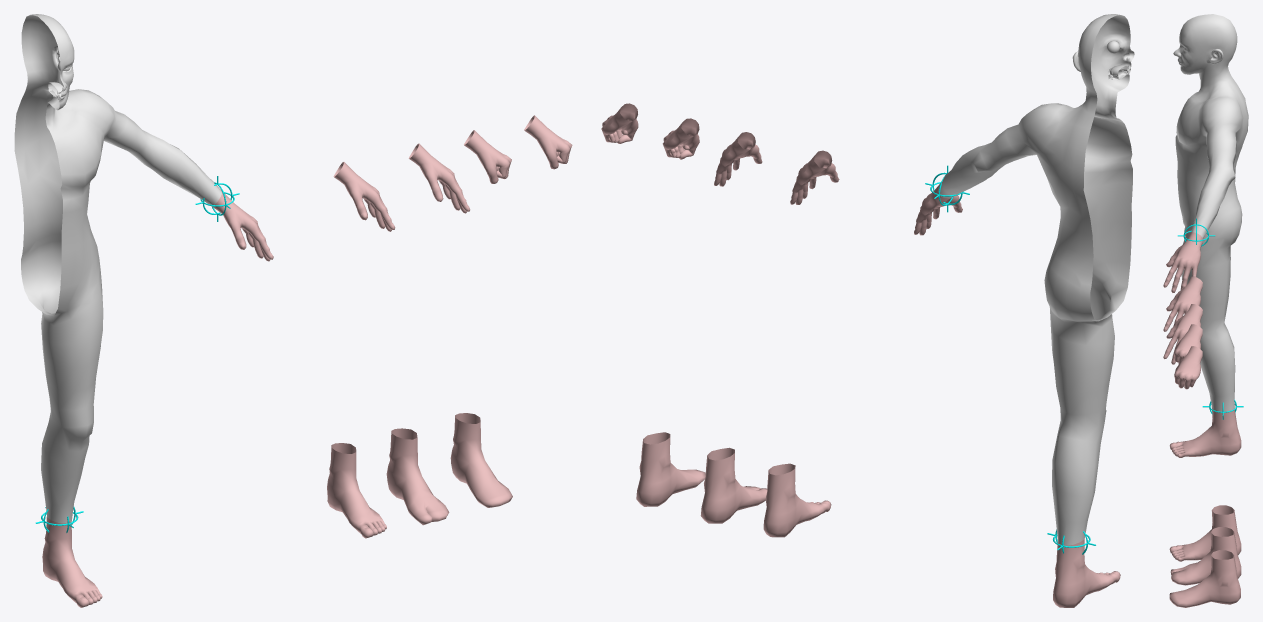
Rendered from Base_Male_A_GameReadyVer.fbx.
The picture shows the model from 3 angles, left to right: view 1: azimuth 30°, elevation 25°; view 2: azimuth 150°, elevation 25°; view 3: azimuth 270°, elevation 25°; orthographic projection. The views are drawn at different scales.
Parts seen in each view (by area): view 1: Base_Male_A, Base_Male_A_Foot03, Base_Male_A_Foot02, Base_Male_A_Foot01, Base_Male_A_Hand02, Base_Male_A_Hand01, Base_Male_A_Fist01, Base_Male_A_Fist02; view 2: Base_Male_A, Base_Male_A_Foot03, Base_Male_A_Foot02, Base_Male_A_Foot01, Base_Male_A_Hand01, Base_Male_A_Hand02, Base_Male_A_Fist01, Base_Male_A_Fist02; view 3: Base_Male_A, Base_Male_A_Foot02, Base_Male_A_Foot03, Base_Male_A_Foot01, Base_Male_A_Hand01, Base_Male_A_Fist02, Base_Male_A_Hand02, Base_Male_A_Fist01, _Pt_Hand, _Pt_Foot.
Part boxes in pixels (x1,y1,x2,y2): Base_Male_A: (14,14,273,607); Base_Male_A_Foot03: (386,428,449,525); Base_Male_A_Foot02: (450,413,512,507); Base_Male_A_Foot01: (327,443,386,538); Base_Male_A_Hand02: (408,143,470,213); Base_Male_A_Hand01: (333,162,395,231); Base_Male_A_Fist01: (464,130,511,183); Base_Male_A_Fist02: (524,115,572,169); Base_Male_A: (914,14,1134,607); Base_Male_A_Foot03: (700,447,767,523); Base_Male_A_Foot02: (636,432,705,506); Base_Male_A_Foot01: (763,463,831,537); Base_Male_A_Hand01: (790,150,839,204); Base_Male_A_Hand02: (714,132,762,186); Base_Male_A_Fist01: (662,118,699,159); Base_Male_A_Fist02: (601,103,638,143); Base_Male_A: (1163,14,1248,457); Base_Male_A_Foot02: (1169,550,1240,607); Base_Male_A_Foot03: (1170,527,1241,585); Base_Male_A_Foot01: (1169,505,1241,561); Base_Male_A_Hand01: (1163,276,1202,331); Base_Male_A_Fist02: (1174,346,1202,389); Base_Male_A_Hand02: (1163,304,1202,364); Base_Male_A_Fist01: (1174,324,1202,364); _Pt_Hand: (1177,218,1215,246); _Pt_Foot: (1202,399,1243,419).
Size of the model in its own units: 913 by 983 by 176.
